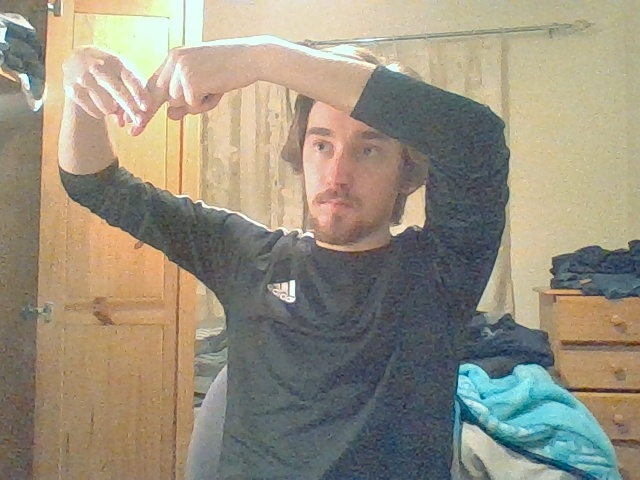father: (102, 46, 186, 136)
